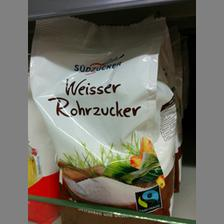Zucker: (29, 16, 179, 224)
